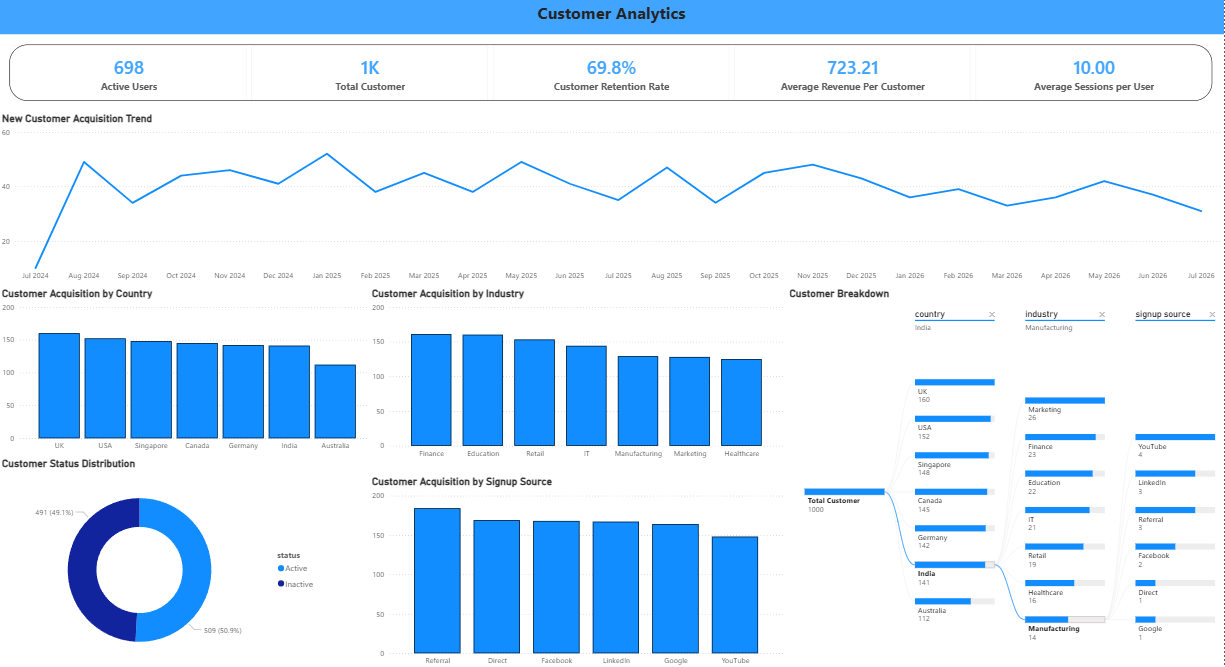

This screenshot's page, from the dashboard's own definition file:
{"tool":"powerbi","page":{"name":"Customer Analytics","canvas":[2000,1100],"ordinal":2},"visuals":[{"type":"cardVisual","fields":{"Data":["Measure Table.Active Users","Measure Table.Total Customer","Measure Table.Customer Retention Rate","Measure Table.Average Revenue Per Customer","Measure Table.Average Sessions per User"]},"box":[0,59.2,2000,126.5],"z":0},{"type":"textbox","box":[0,0,2000,59.2],"z":1000},{"type":"lineChart","title":"New Customer Acquisition Trend","fields":{"Y":["Measure Table.New Customers"],"Category":["Date Table.Month Year"]},"box":[0,185.7,2000,285.7],"z":2000},{"type":"clusteredColumnChart","title":"Customer Acquisition by Country","fields":{"Category":["dim_users.country"],"Y":["CountNonNull(dim_users.user_id)"]},"box":[0,471.4,618.4,277.6],"z":3000},{"type":"clusteredColumnChart","title":"Customer Acquisition by Industry","fields":{"Y":["CountNonNull(dim_users.user_id)"],"Category":["dim_users.industry"]},"box":[604.1,471.4,681.6,289.8],"z":4000},{"type":"clusteredColumnChart","title":"Customer Acquisition by Signup Source","fields":{"Category":["dim_users.signup source"],"Y":["CountNonNull(dim_users.user_id)"]},"box":[604.1,779.6,681.6,320.4],"z":5000},{"type":"donutChart","title":"Customer Status Distribution","fields":{"Category":["dim_users.status"],"Y":["CountNonNull(dim_users.user_id)"]},"box":[0,749.1,527.3,350.9],"z":6000},{"type":"decompositionTreeVisual","title":"Customer Breakdown","fields":{"ExplainBy":["dim_users.country","dim_users.industry","dim_users.signup source"],"Analyze":["Measure Table.Total Customer"]},"box":[1285.7,471.4,714.3,628.6],"z":7000}]}

Visuals, with their boxes in screenshot pixels (x1, y1, x2, y2), scaled from the page's 2000x1100 canvas onto the 1225x667 screenshot:
cardVisual - Measure Table.Active Users x Measure Table.Total Customer: 0,36,1224,113
textbox: 0,0,1224,36
"New Customer Acquisition Trend" lineChart: 0,113,1224,286
"Customer Acquisition by Country" clusteredColumnChart: 0,286,379,454
"Customer Acquisition by Industry" clusteredColumnChart: 370,286,787,462
"Customer Acquisition by Signup Source" clusteredColumnChart: 370,473,787,666
"Customer Status Distribution" donutChart: 0,454,323,666
"Customer Breakdown" decompositionTreeVisual: 787,286,1224,666
